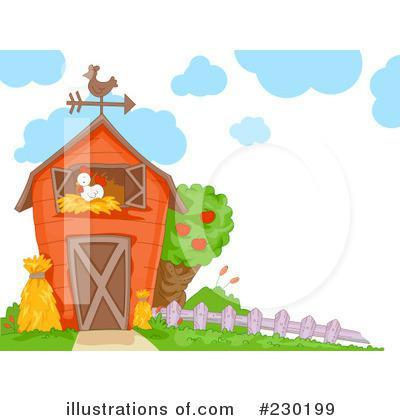bird: (69, 164, 112, 204)
